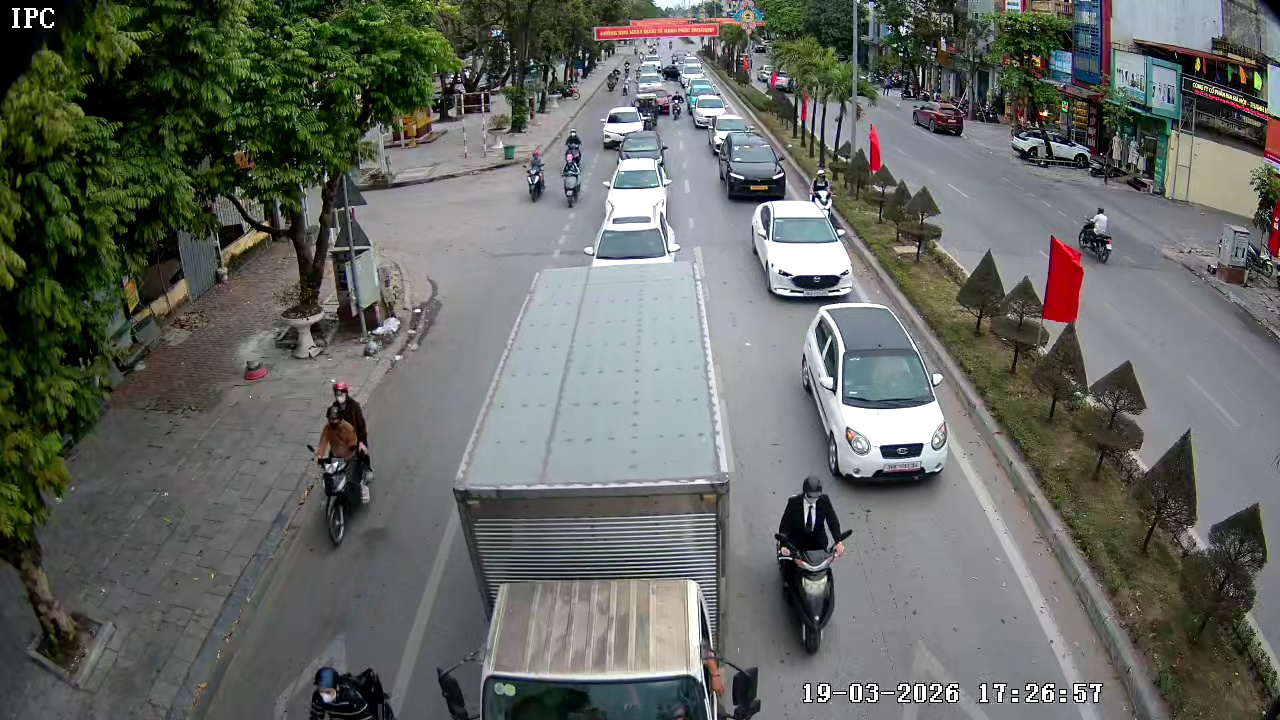bike: (304, 378, 375, 547)
car: (799, 303, 949, 482), (749, 200, 852, 301), (583, 212, 682, 304), (717, 134, 787, 200), (603, 159, 673, 225), (617, 136, 667, 176), (599, 106, 645, 149), (692, 95, 730, 128)
motorbike: (772, 474, 853, 653), (304, 378, 375, 546), (1077, 205, 1115, 264), (559, 137, 585, 208), (522, 148, 548, 204), (670, 89, 686, 121), (622, 72, 631, 96)
truck: (417, 259, 750, 718)
